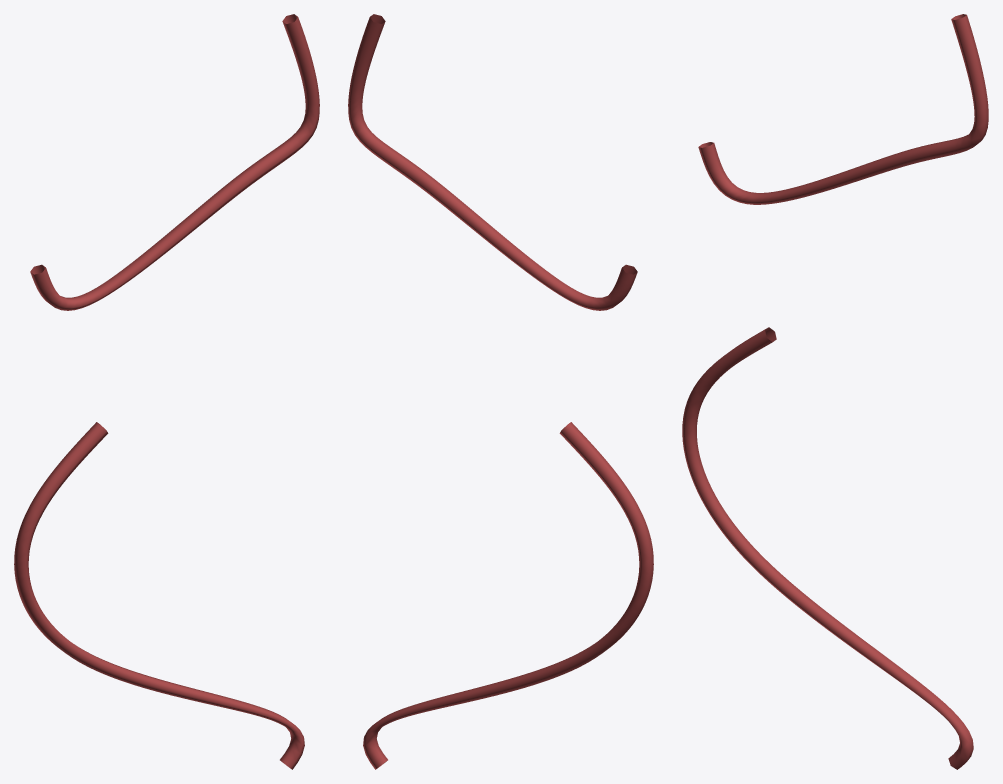
Rendered from snipOne.fbx.
3 views of the same model, side by side, from view 1: azimuth 30°, elevation 25°; view 2: azimuth 150°, elevation 25°; view 3: azimuth 330°, elevation 25° (orthographic).
Parts seen in each view (by area): view 1: extrudedSurface21, extrudedSurface16; view 2: extrudedSurface21, extrudedSurface16; view 3: extrudedSurface21, extrudedSurface16.
Boxes of the visible parts, left/top/right/bottom form: extrudedSurface21: left=14, top=422, right=304, bottom=769; extrudedSurface16: left=30, top=14, right=319, bottom=310; extrudedSurface21: left=363, top=422, right=653, bottom=769; extrudedSurface16: left=348, top=14, right=637, bottom=310; extrudedSurface21: left=682, top=327, right=973, bottom=769; extrudedSurface16: left=698, top=14, right=988, bottom=204.
Bounding box in the file's own units: 25.01 × 59.53 × 1.19.
